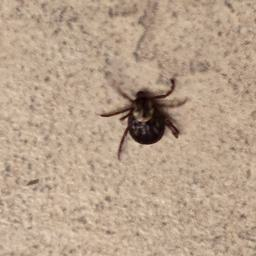Dermacentor variabilis: (101, 75, 186, 161)
